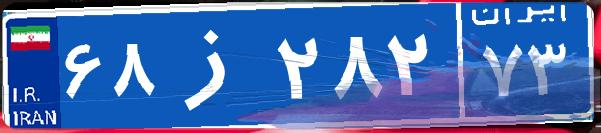2: (385, 28, 445, 110), (273, 28, 330, 110)
3: (525, 38, 570, 115)
6: (57, 26, 110, 107)
7: (475, 38, 525, 113)
8: (330, 28, 385, 110), (110, 28, 158, 105)
ز: (158, 15, 273, 115)
